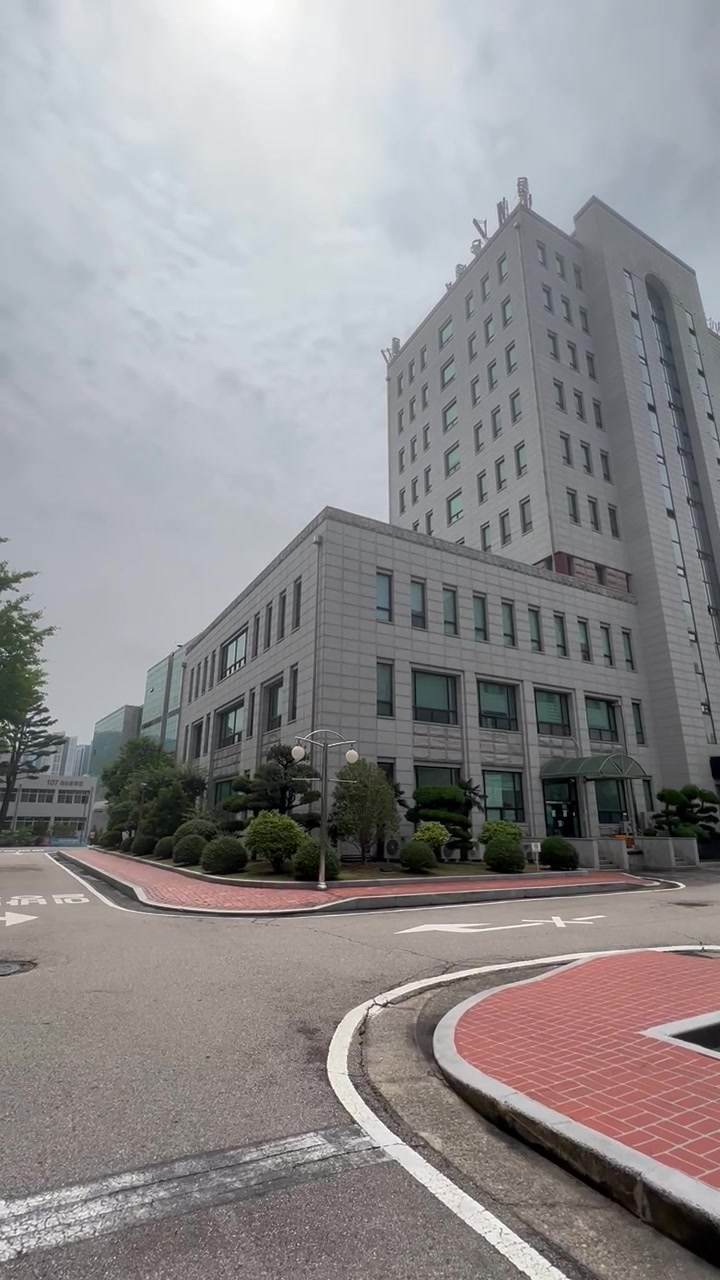low: (194, 220, 720, 724)
